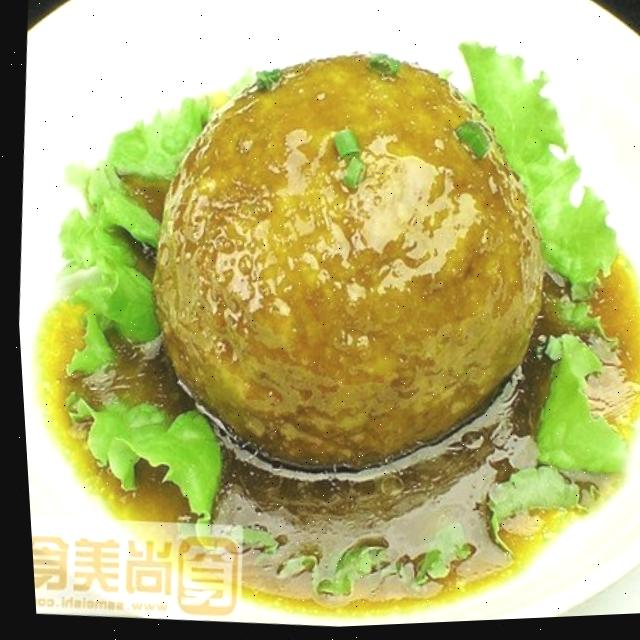猪肉菜式: (0, 0, 640, 596)
